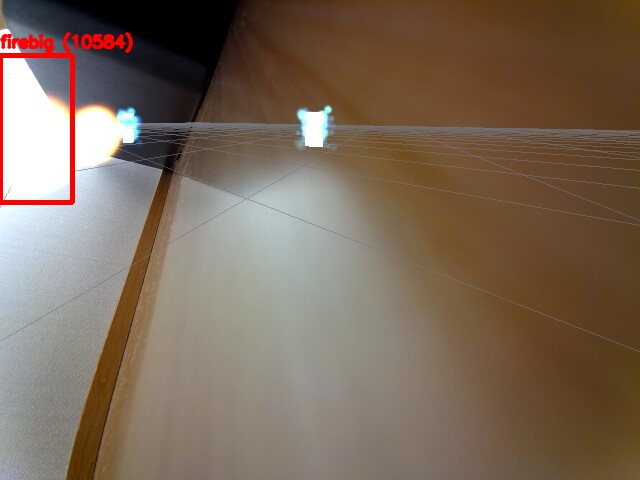firebig: (0, 55, 72, 202)
